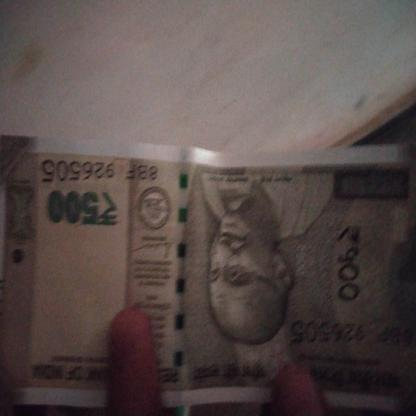New500Front: (4, 139, 415, 401)
